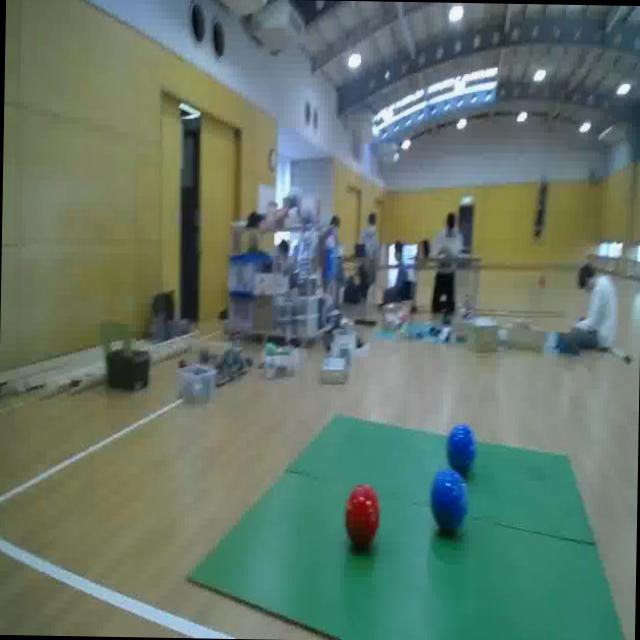blue_ball: (427, 466, 469, 538), (446, 418, 476, 479)
red_ball: (342, 479, 381, 553)
